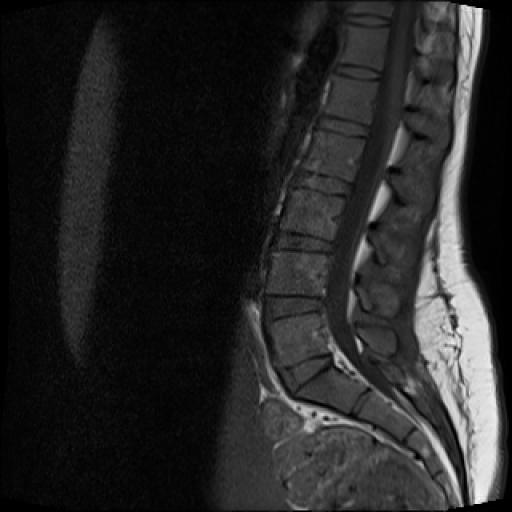L1: (323, 75, 378, 126)
L2: (303, 130, 365, 182)
L3: (280, 189, 344, 241)
L4: (265, 251, 328, 296)
L5: (268, 312, 328, 367)
S1: (296, 366, 366, 414)
